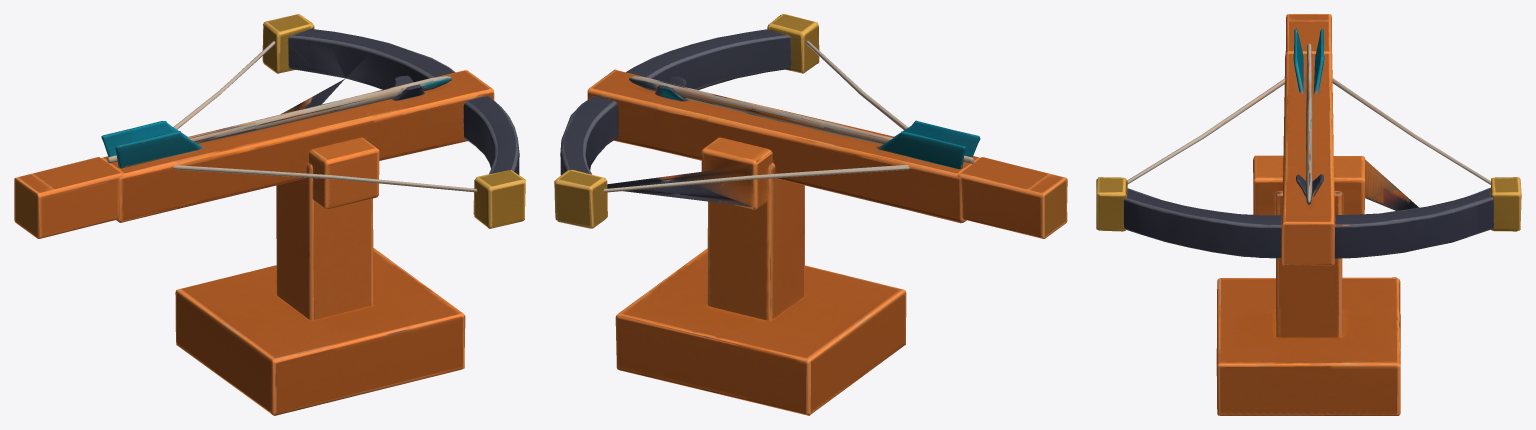
File: ballista.glb
3 views of the same model, side by side, from view 1: azimuth 30°, elevation 25°; view 2: azimuth 150°, elevation 25°; view 3: azimuth 270°, elevation 25° (orthographic). The views are drawn at different scales.
Size of the model in its own units: 1 by 0.5645 by 0.873.
1 material, 1 textured.
